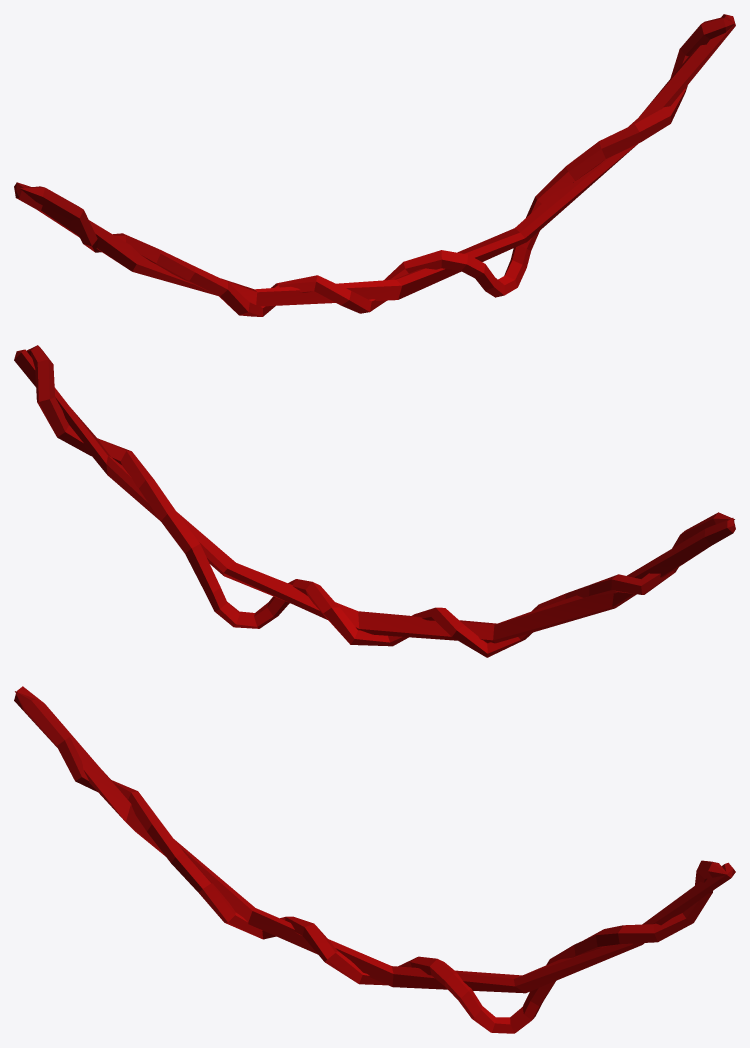
The model's file is SM_Gen_Env_Vines_01.glb.
3 views of the same model, one above another, from view 1: azimuth 30°, elevation 25°; view 2: azimuth 150°, elevation 25°; view 3: azimuth 330°, elevation 25° (orthographic).
Visible parts, largest first — view 1: SM_Gen_Env_Vines_012; view 2: SM_Gen_Env_Vines_012; view 3: SM_Gen_Env_Vines_012.
Part boxes in pixels (bbox=[...]): SM_Gen_Env_Vines_012: bbox=[14, 14, 735, 316]; SM_Gen_Env_Vines_012: bbox=[14, 345, 735, 657]; SM_Gen_Env_Vines_012: bbox=[14, 686, 735, 1033].
Bounding box in the file's own units: 3.46 × 1.05 × 0.2111.
